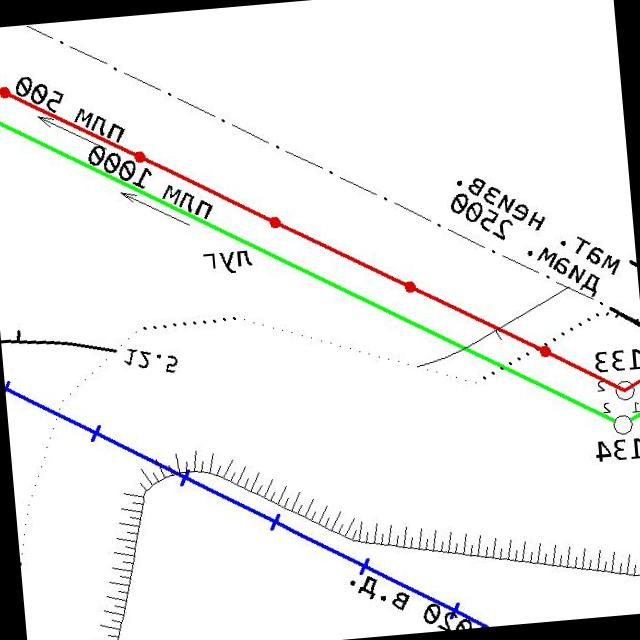well: (610, 411, 636, 437), (612, 377, 638, 402)
